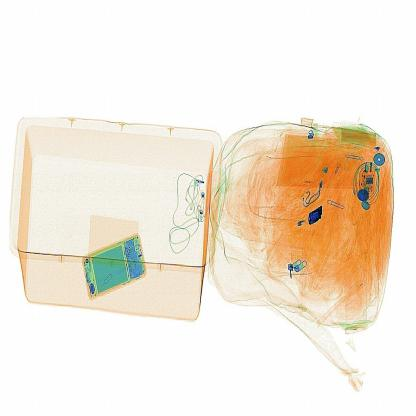knife: (301, 196, 340, 235)
